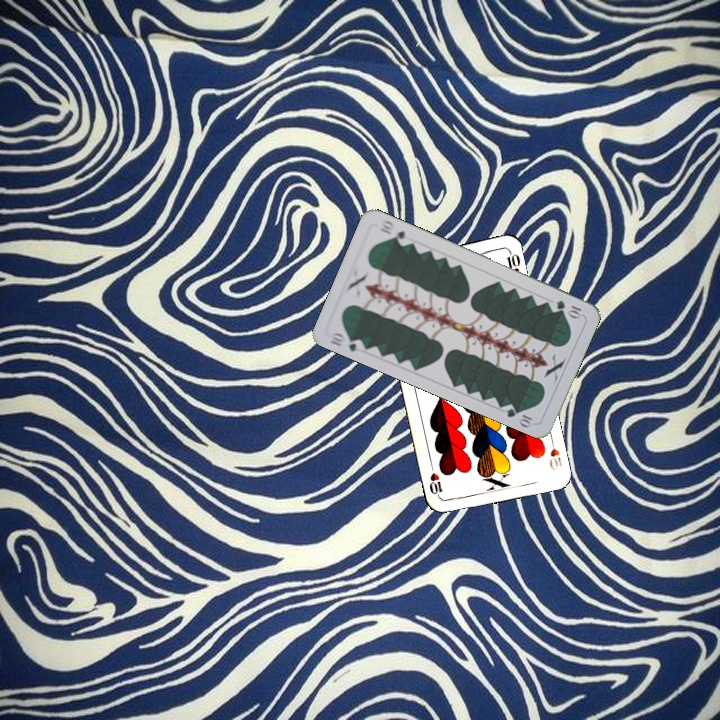G10: (326, 328, 367, 355), (552, 296, 585, 320)
H10: (545, 433, 564, 473)
